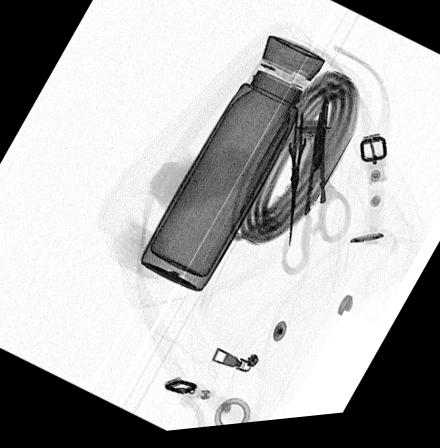Scissors: (280, 101, 352, 281), (274, 91, 319, 253)
